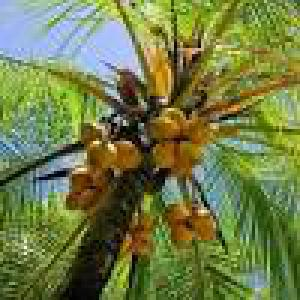Tree: (0, 0, 294, 294)
